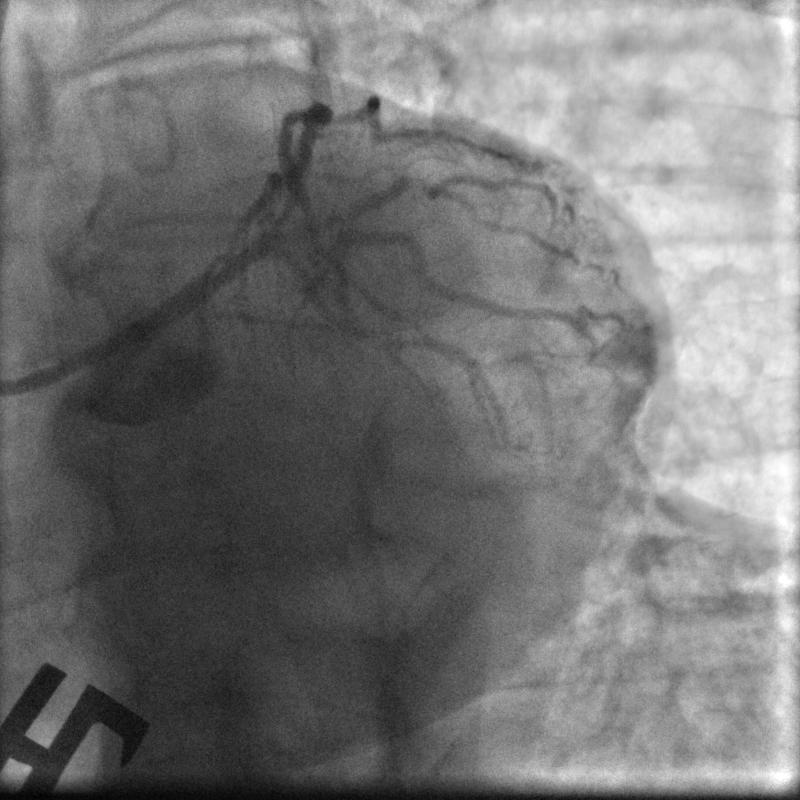Stenosis: (394, 169, 437, 197)
